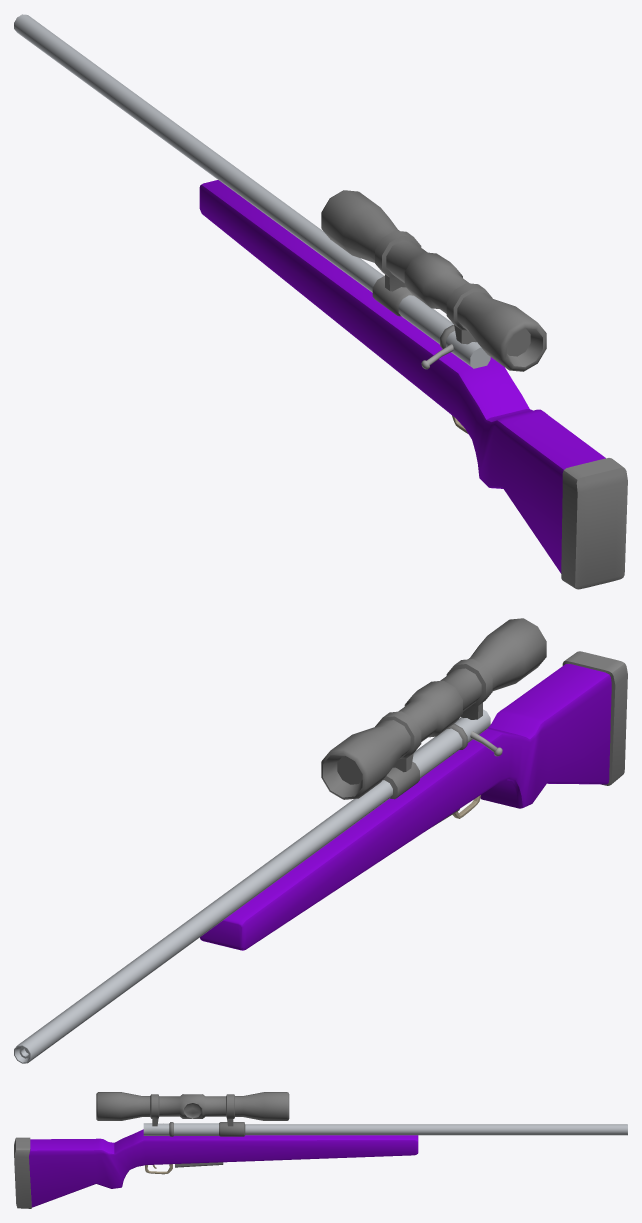
Rendered from sniper 2.fbx.
The picture shows the model from 3 angles, top to bottom: view 1: azimuth 30°, elevation 25°; view 2: azimuth 150°, elevation 25°; view 3: azimuth 270°, elevation 25°; orthographic projection. The views are drawn at different scales.
Parts seen in each view (by area): view 1: SniperBase.001, SniperScope.002; view 2: SniperBase.001, SniperScope.002; view 3: SniperBase.001, SniperScope.002.
Part boxes in pixels (box(x1,y1,x2,y2)): SniperBase.001: box(199, 180, 627, 589); SniperScope.002: box(14, 14, 546, 371); SniperBase.001: box(200, 651, 627, 950); SniperScope.002: box(14, 618, 546, 1063); SniperBase.001: box(14, 1129, 418, 1208); SniperScope.002: box(96, 1092, 627, 1136).
Size of the model in its own units: 0.0788 by 0.2379 by 1.2.
